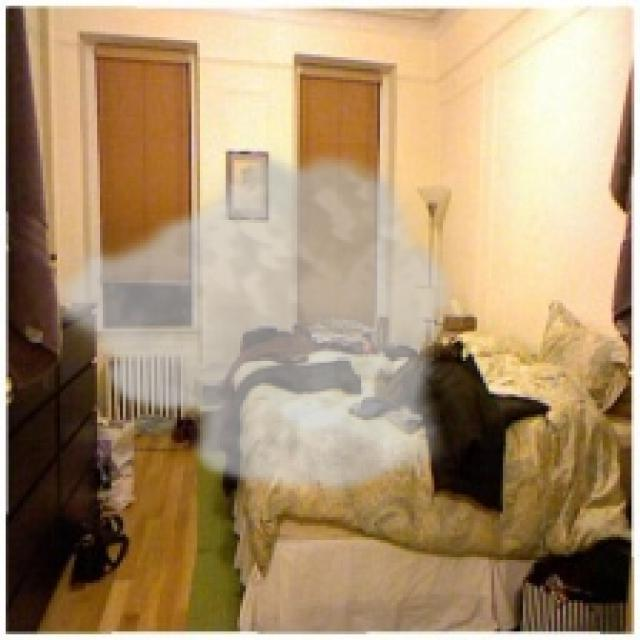Smoke: (49, 143, 458, 500)
